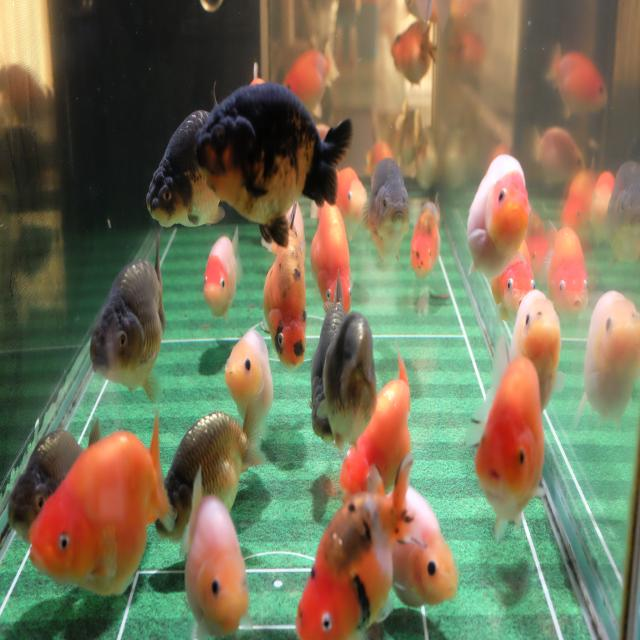Goldfish: (28, 405, 174, 598), (194, 80, 353, 250), (294, 456, 413, 640), (468, 332, 547, 545), (154, 397, 265, 547), (89, 233, 166, 408), (366, 465, 460, 608), (178, 464, 251, 638), (7, 415, 102, 548), (340, 342, 413, 508), (145, 107, 226, 230), (574, 287, 640, 430), (466, 151, 531, 283), (323, 307, 379, 458), (260, 201, 308, 374), (509, 288, 562, 418), (224, 326, 274, 447), (361, 156, 412, 268), (309, 196, 353, 320), (543, 216, 590, 327), (281, 40, 342, 114), (201, 226, 243, 320), (391, 19, 437, 91), (410, 191, 441, 282)
